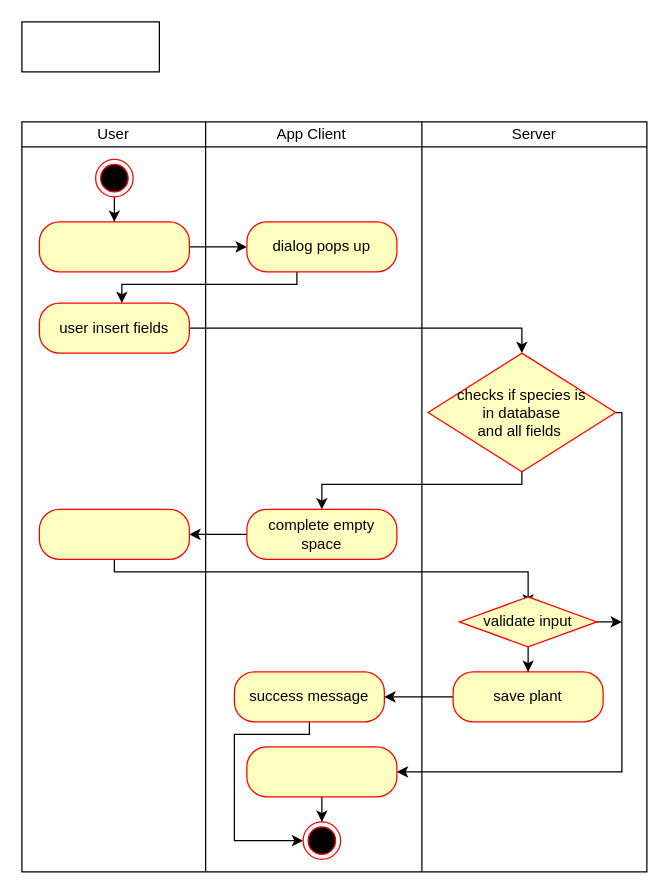
This 669x894 diagram has some shape labels left out. Each missing label, with the box of its shape:
Add plant: (21, 21, 159, 72)
clicks on 'add a plant': (38, 221, 189, 272)
clicks on 'save plant': (38, 508, 189, 559)
error message: (246, 746, 397, 797)
